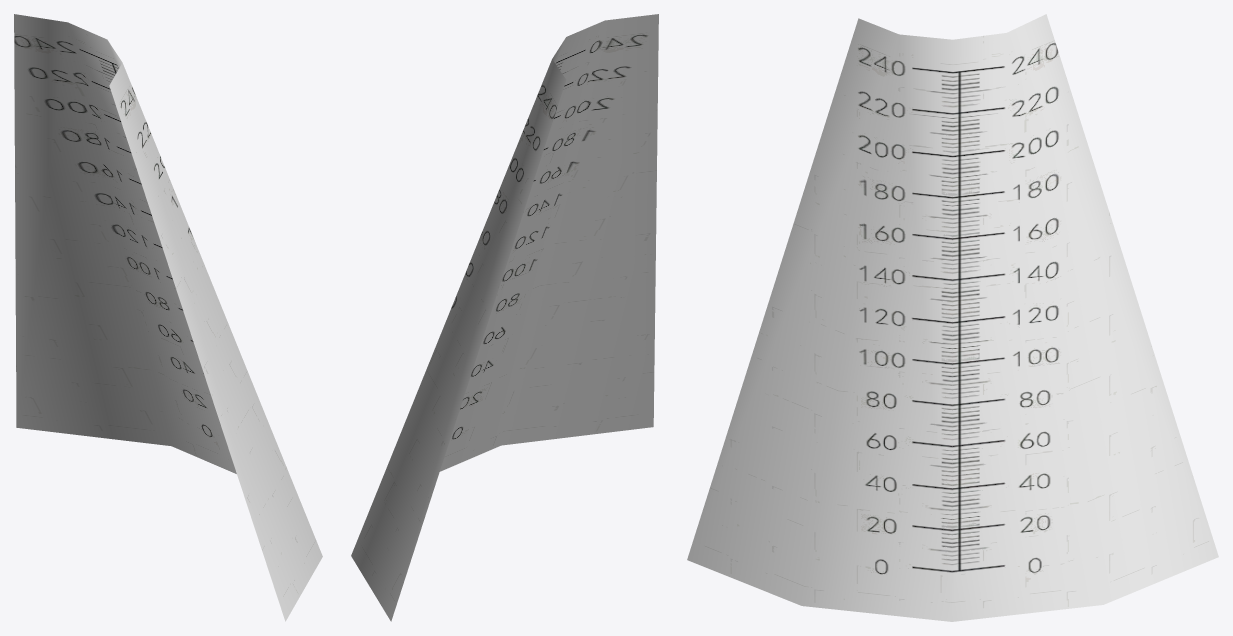
3 views of the same model, side by side, from view 1: azimuth 30°, elevation 25°; view 2: azimuth 150°, elevation 25°; view 3: azimuth 270°, elevation 25° (orthographic).
Visible parts, largest first — view 1: SM_刻度; view 2: SM_刻度; view 3: SM_刻度.
Boxes of the visible parts, bbox=[...] form: SM_刻度: bbox=[14, 14, 322, 621]; SM_刻度: bbox=[351, 14, 658, 621]; SM_刻度: bbox=[687, 14, 1218, 621].
Size of the model in its own units: 0.0291 by 0.063 by 0.0606.
